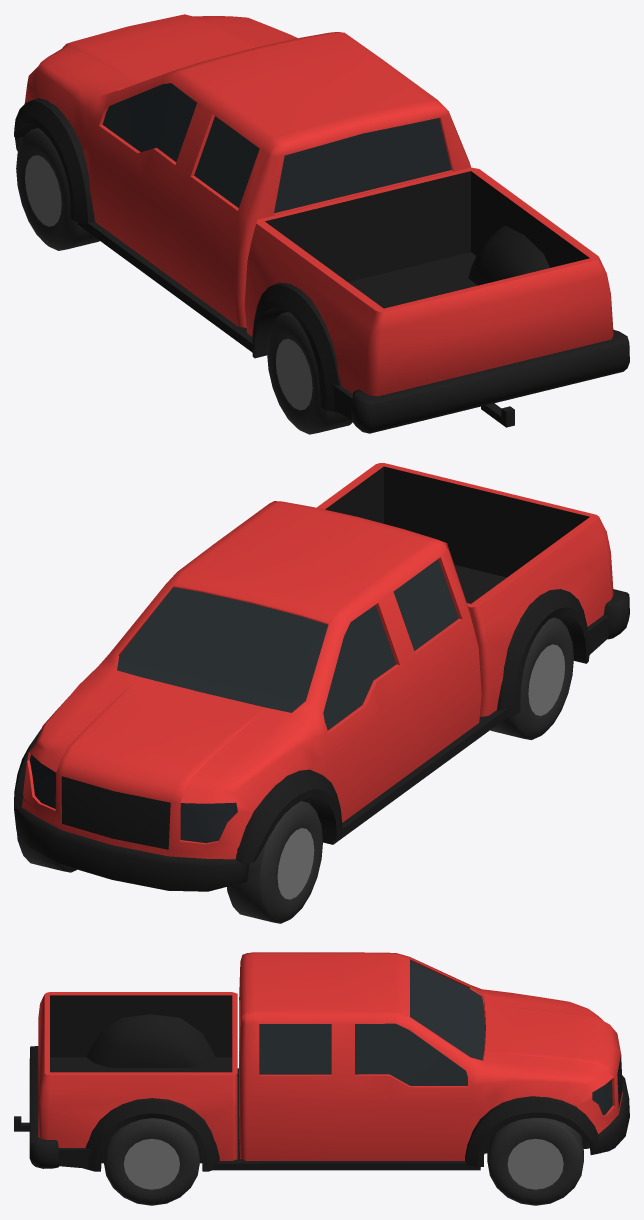
File: Truck_hitch.glb
3 views of the same model, one above another, from view 1: azimuth 30°, elevation 25°; view 2: azimuth 150°, elevation 25°; view 3: azimuth 270°, elevation 25° (orthographic). The views are drawn at different scales.
Visible parts, largest first — view 1: Truck_hitch; view 2: Truck_hitch; view 3: Truck_hitch.
Part boxes in pixels (left/top/right/bottom): Truck_hitch: left=14, top=14, right=629, bottom=434; Truck_hitch: left=14, top=463, right=629, bottom=923; Truck_hitch: left=14, top=952, right=629, bottom=1205.
Size of the model in its own units: 227 by 189 by 583.
